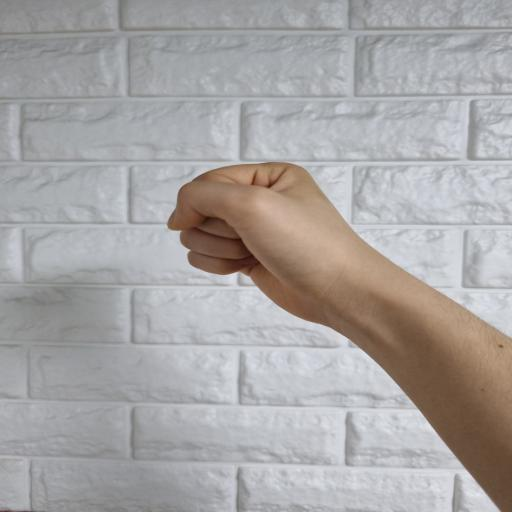Rock: (167, 161, 381, 333)
